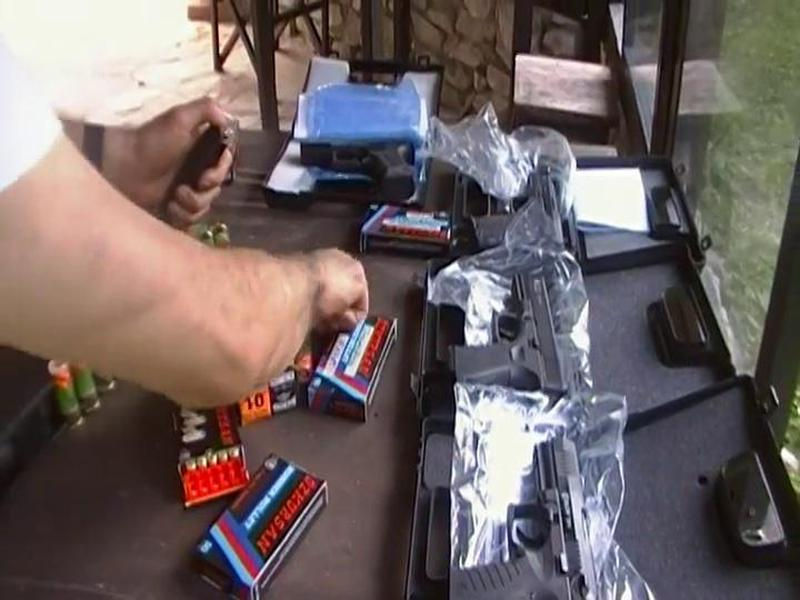Pistola: (429, 434, 636, 600), (428, 263, 574, 408)
